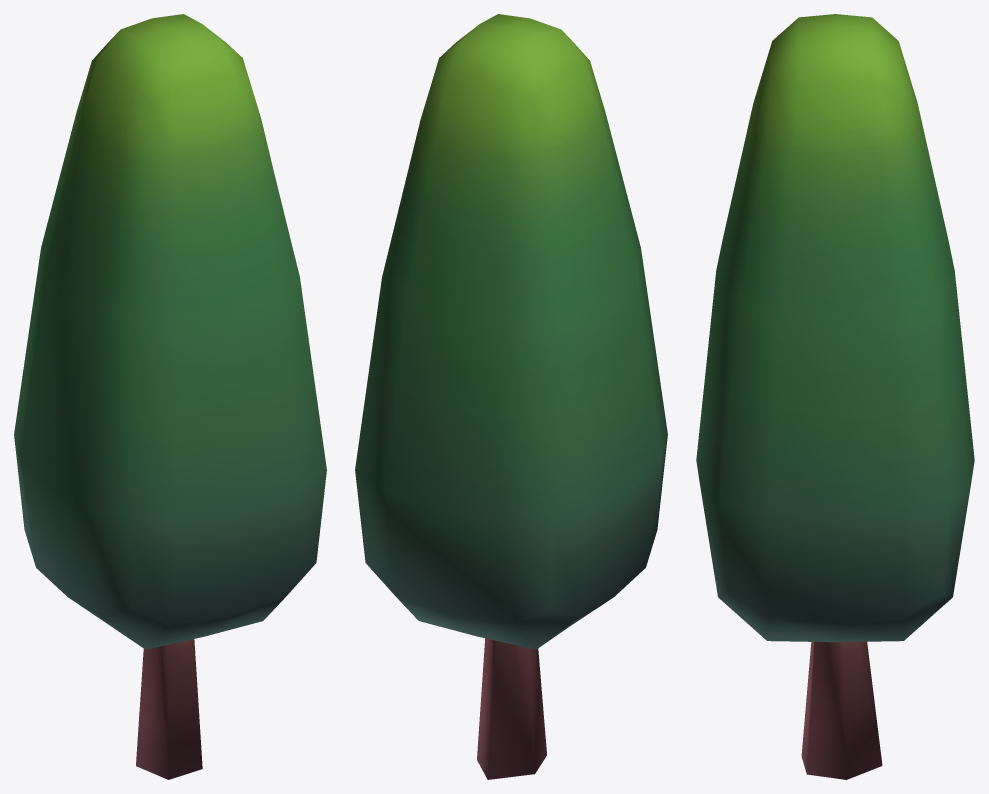
File: Tree_Tall.obj
3 renders of one model, left to right at view 1: azimuth 30°, elevation 25°; view 2: azimuth 150°, elevation 25°; view 3: azimuth 270°, elevation 25°, orthographic.
Parts seen in each view (by area): view 1: {mesh}Tree_Tall_Cylinder.006; view 2: {mesh}Tree_Tall_Cylinder.006; view 3: {mesh}Tree_Tall_Cylinder.006.
Part boxes in pixels (x1,y1,x2,y2): {mesh}Tree_Tall_Cylinder.006: [14, 14, 326, 779]; {mesh}Tree_Tall_Cylinder.006: [355, 14, 667, 779]; {mesh}Tree_Tall_Cylinder.006: [696, 14, 974, 779].
Size of the model in its own units: 48.68 by 143 by 48.68.
1 material, 1 textured.
